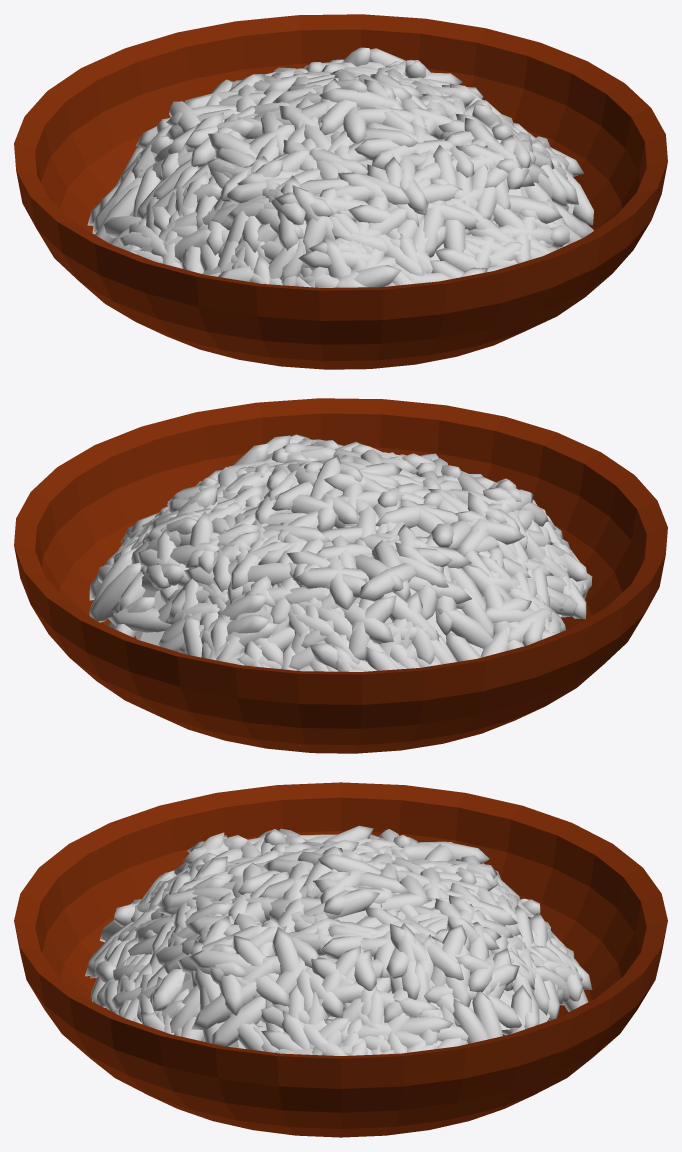
File: food.fbx
The picture shows the model from 3 angles, top to bottom: view 1: azimuth 30°, elevation 25°; view 2: azimuth 150°, elevation 25°; view 3: azimuth 270°, elevation 25°; orthographic projection.
Visible parts, largest first — view 1: Bowl, Plane|Rice|Dupli|66, Plane|Rice|Dupli|235, Plane|Rice|Dupli|473, Plane|Rice|Dupli|184, Plane|Rice|Dupli|139, Plane|Rice|Dupli|197, Plane|Rice|Dupli|124, Plane|Rice|Dupli|4, Plane|Rice|Dupli|62, Plane|Rice|Dupli|297, Plane|Rice|Dupli|60 (+19 smaller); view 2: Bowl, Plane, Plane|Rice|Dupli|493, Plane|Rice|Dupli|376, Plane|Rice|Dupli|89, Plane|Rice|Dupli|69, Plane|Rice|Dupli|335, Plane|Rice|Dupli|371, Plane|Rice|Dupli|25, Plane|Rice|Dupli|383, Plane|Rice|Dupli|459, Plane|Rice|Dupli|352 (+36 smaller); view 3: Bowl, Plane|Rice|Dupli|44, Plane, Plane|Rice|Dupli|397, Plane|Rice|Dupli|211, Plane|Rice|Dupli|379, Plane|Rice|Dupli|473, Plane|Rice|Dupli|82, Plane|Rice|Dupli|493, Plane|Rice|Dupli|190, Plane|Rice|Dupli|317, Plane|Rice|Dupli|16 (+22 smaller).
Boxes of the visible parts, <box> form: Bowl: <box>14,14,667,369</box>; Plane|Rice|Dupli|66: <box>319,88,404,108</box>; Plane|Rice|Dupli|235: <box>302,187,337,253</box>; Plane|Rice|Dupli|473: <box>508,195,562,223</box>; Plane|Rice|Dupli|184: <box>354,265,401,287</box>; Plane|Rice|Dupli|139: <box>423,200,445,257</box>; Plane|Rice|Dupli|197: <box>277,175,301,250</box>; Plane|Rice|Dupli|124: <box>298,250,378,268</box>; Plane|Rice|Dupli|4: <box>95,185,139,243</box>; Plane|Rice|Dupli|62: <box>227,177,289,203</box>; Plane|Rice|Dupli|297: <box>292,185,334,240</box>; Plane|Rice|Dupli|60: <box>564,169,593,225</box>; Bowl: <box>14,398,667,753</box>; Plane: <box>118,474,561,660</box>; Plane|Rice|Dupli|493: <box>89,562,141,622</box>; Plane|Rice|Dupli|376: <box>359,563,415,601</box>; Plane|Rice|Dupli|89: <box>437,608,494,648</box>; Plane|Rice|Dupli|69: <box>108,608,171,632</box>; Plane|Rice|Dupli|335: <box>293,567,369,588</box>; Plane|Rice|Dupli|371: <box>340,604,393,643</box>; Plane|Rice|Dupli|25: <box>327,556,354,609</box>; Plane|Rice|Dupli|383: <box>230,562,291,586</box>; Plane|Rice|Dupli|459: <box>375,504,439,528</box>; Plane|Rice|Dupli|352: <box>373,540,410,601</box>; Bowl: <box>14,782,667,1137</box>; Plane|Rice|Dupli|44: <box>210,996,265,1046</box>; Plane: <box>181,857,549,1048</box>; Plane|Rice|Dupli|397: <box>191,982,256,1029</box>; Plane|Rice|Dupli|211: <box>303,889,379,919</box>; Plane|Rice|Dupli|379: <box>453,999,489,1043</box>; Plane|Rice|Dupli|473: <box>152,969,184,1011</box>; Plane|Rice|Dupli|82: <box>272,927,299,973</box>; Plane|Rice|Dupli|493: <box>472,991,502,1038</box>; Plane|Rice|Dupli|190: <box>431,924,466,985</box>; Plane|Rice|Dupli|317: <box>414,933,463,980</box>; Plane|Rice|Dupli|16: <box>188,950,251,968</box>.
Bounding box in the file's own units: 59.21 × 23.99 × 59.21.
